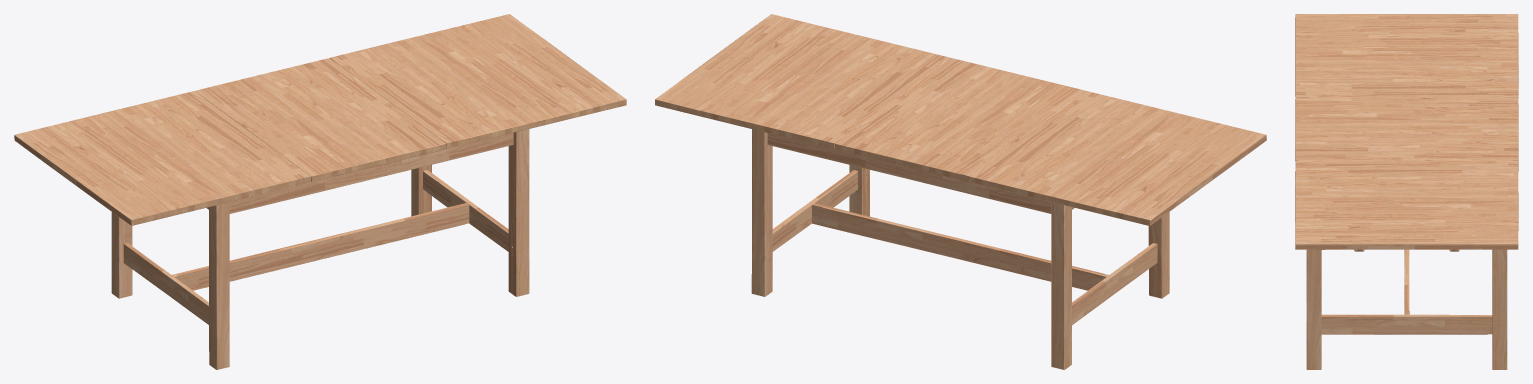
Rendered from karskar_sto_rozkadany_50611263.glb.
The picture shows the model from 3 angles, left to right: view 1: azimuth 30°, elevation 25°; view 2: azimuth 150°, elevation 25°; view 3: azimuth 270°, elevation 25°; orthographic projection. The views are drawn at different scales.
Visible parts, largest first — view 1: karskar_sto_rozkadany_50611263; view 2: karskar_sto_rozkadany_50611263; view 3: karskar_sto_rozkadany_50611263.
Boxes of the visible parts, left/top/right/bottom form: karskar_sto_rozkadany_50611263: left=14, top=14, right=626, bottom=369; karskar_sto_rozkadany_50611263: left=655, top=14, right=1266, bottom=369; karskar_sto_rozkadany_50611263: left=1295, top=14, right=1518, bottom=369.
Bounding box in the file's own units: 2.2 × 0.7515 × 0.9017.
1 material, 1 textured.
